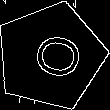O_W: (20, 29, 81, 83)
